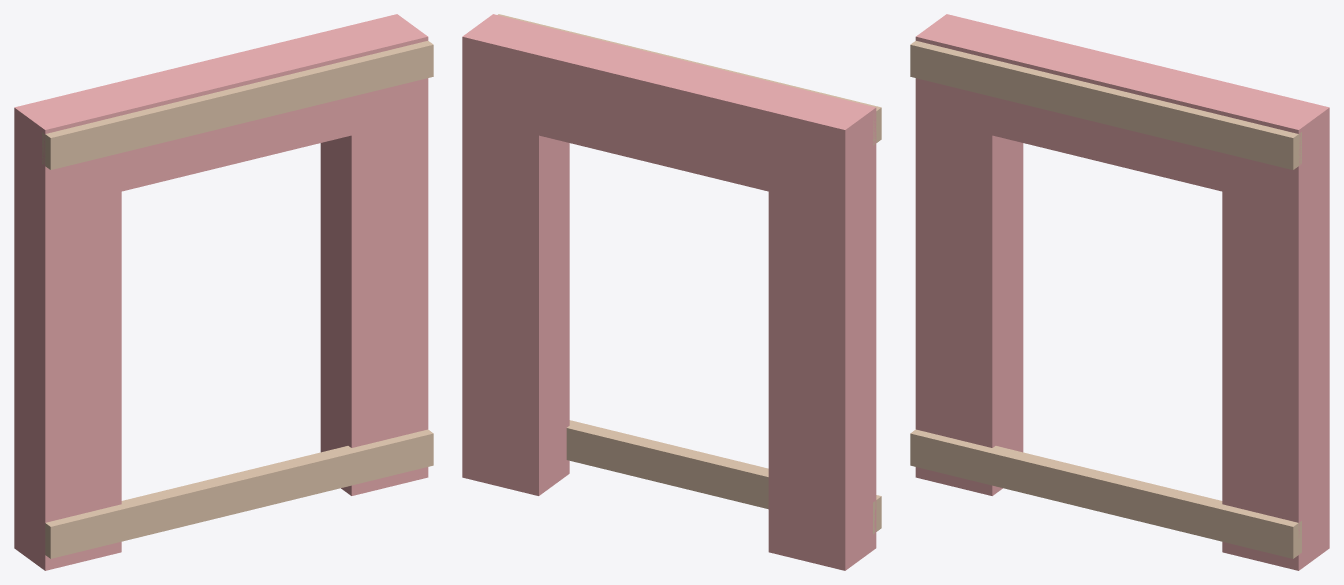
The model's file is wall-brick-door.glb.
3 renders of one model, left to right at view 1: azimuth 30°, elevation 25°; view 2: azimuth 150°, elevation 25°; view 3: azimuth 330°, elevation 25°, orthographic.
Parts seen in each view (by area): view 1: left_jamb, right_jamb, lintel, trim, top_trim; view 2: left_jamb, right_jamb, lintel, trim, top_trim; view 3: right_jamb, left_jamb, lintel, trim, top_trim.
Boxes of the visible parts, <box> form: left_jamb: <box>14,89,121,570</box>; right_jamb: <box>320,14,428,495</box>; lintel: <box>91,32,351,191</box>; trim: <box>45,429,433,558</box>; top_trim: <box>42,41,433,169</box>; left_jamb: <box>768,89,876,570</box>; right_jamb: <box>462,14,569,495</box>; lintel: <box>539,33,799,191</box>; trim: <box>566,420,881,534</box>; top_trim: <box>498,14,881,145</box>; right_jamb: <box>1222,89,1329,570</box>; left_jamb: <box>915,14,1023,495</box>; lintel: <box>992,32,1252,191</box>; trim: <box>910,429,1301,558</box>; top_trim: <box>910,41,1301,169</box>.
Bounding box in the file's own units: 1 × 1.1 × 0.165.
